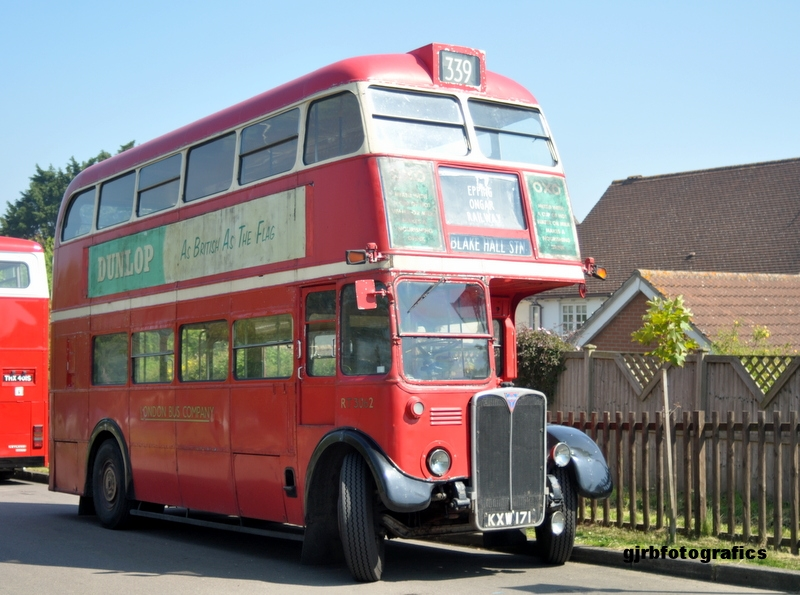bus: (50, 40, 627, 579)
